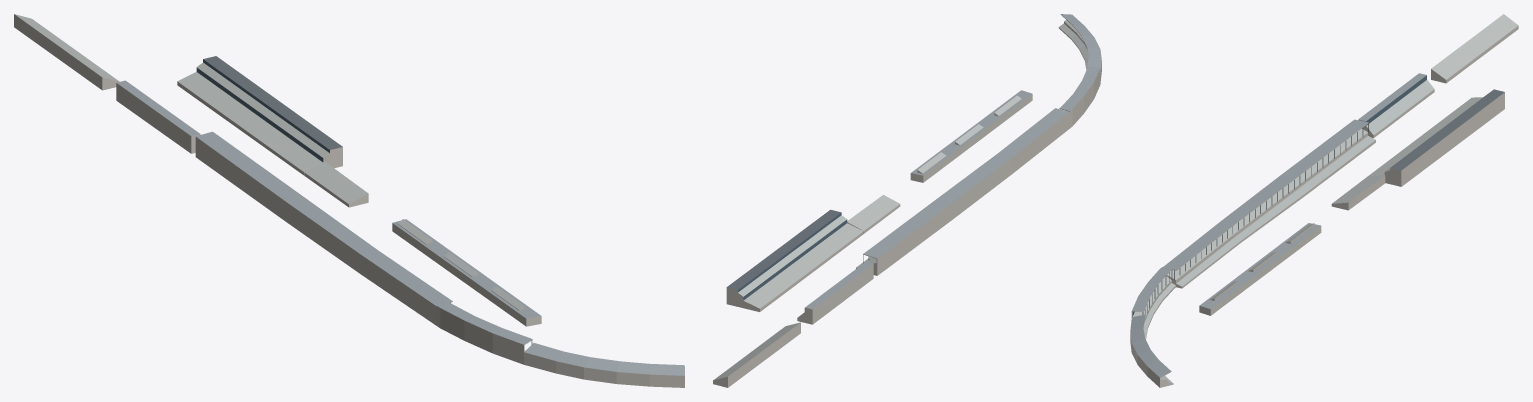
Rendered from indy-ims-main-grandstands.glb.
3 views of the same model, side by side, from view 1: azimuth 30°, elevation 25°; view 2: azimuth 150°, elevation 25°; view 3: azimuth 330°, elevation 25° (orthographic). The views are drawn at different scales.
Parts seen in each view (by area): view 1: Indianapolis Motor Speedway front-stretch grandstands; view 2: Indianapolis Motor Speedway front-stretch grandstands; view 3: Indianapolis Motor Speedway front-stretch grandstands.
Part boxes in pixels (x1,y1,x2,y2): Indianapolis Motor Speedway front-stretch grandstands: (14, 14, 684, 387); Indianapolis Motor Speedway front-stretch grandstands: (713, 14, 1101, 387); Indianapolis Motor Speedway front-stretch grandstands: (1130, 14, 1518, 387).
Bounding box in the file's own units: 183 × 26.6 × 1204.
